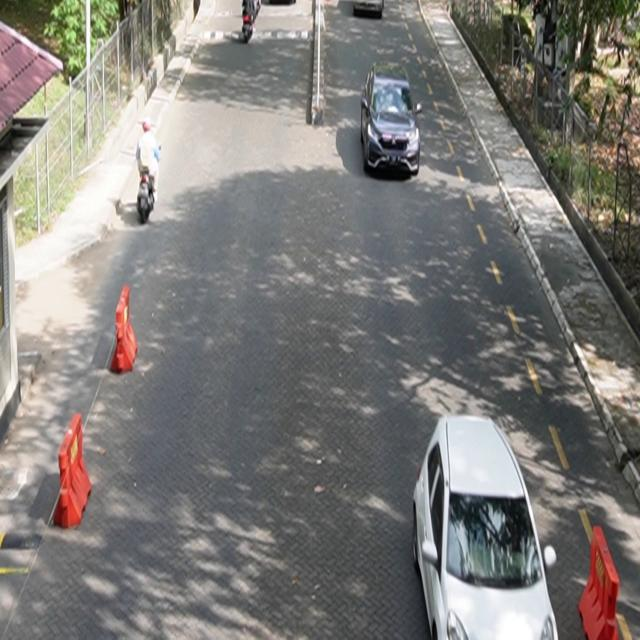car: (413, 415, 560, 640), (361, 62, 423, 177)
